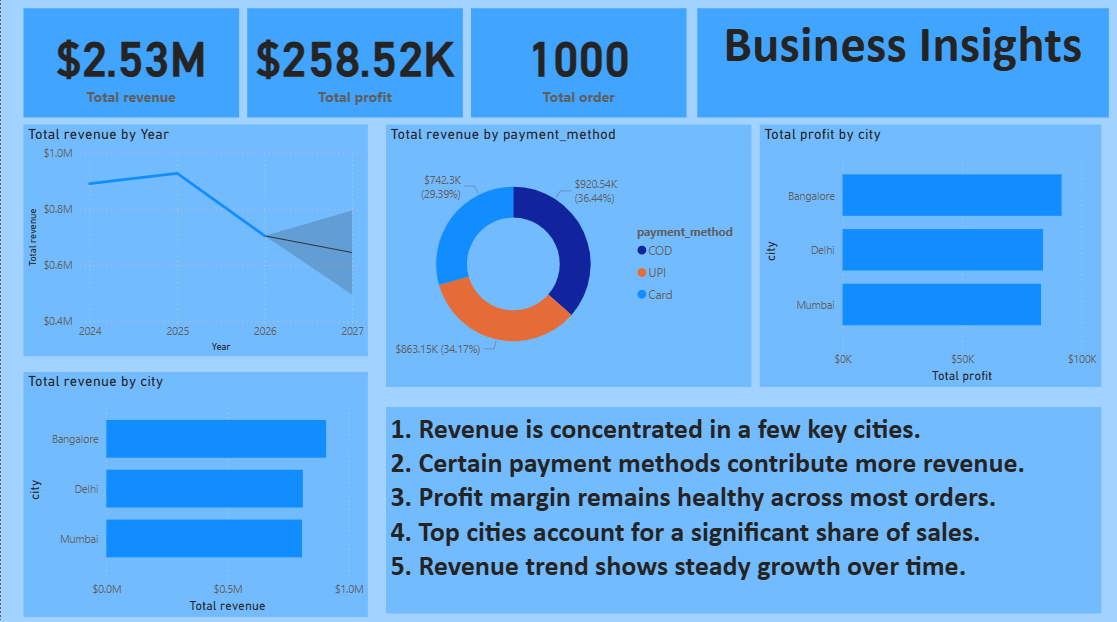

What the dashboard file says about the page in this screenshot:
{"tool":"powerbi","page":{"name":"Page 5","canvas":[1280,720],"ordinal":4},"visuals":[{"type":"lineChart","fields":{"Category":["Factsales.date.Variation.Date Hierarchy.Year","Factsales.date.Variation.Date Hierarchy.Quarter","Factsales.date.Variation.Date Hierarchy.Month","Factsales.date.Variation.Date Hierarchy.Day"],"Y":["Factsales.Total revenue"]},"box":[26.2,145,393.8,265],"z":0},{"type":"donutChart","fields":{"Category":["Factsales.payment_method"],"Y":["Factsales.Total revenue"]},"box":[440,145,417.5,300],"z":1},{"type":"barChart","fields":{"Category":["Factsales.city"],"Y":["Factsales.Total revenue"]},"box":[26.2,428.8,393.8,280],"z":2},{"type":"barChart","fields":{"Category":["Factsales.city"],"Y":["Factsales.Total profit"]},"box":[867.5,145,390,300],"z":3},{"type":"textbox","box":[440,468.8,817.5,236.2],"z":4},{"type":"card","fields":{"Values":["Factsales.Total revenue"]},"box":[26.2,12.5,246.2,125],"z":5},{"type":"card","fields":{"Values":["Factsales.Total profit"]},"box":[281.2,12.5,246.2,125],"z":6},{"type":"card","fields":{"Values":["Factsales.Total order"]},"box":[537.5,12.5,246.2,125],"z":7},{"type":"textbox","box":[796.2,12.5,470,125],"z":8}]}

Visuals, with their boxes in screenshot pixels (x1, y1, x2, y2), scaled from the page's 1280x720 canvas onto the 1117x622 screenshot:
lineChart - Factsales.date.Variation.Date Hierarchy.Year x Factsales.date.Variation.Date Hierarchy.Quarter: region(23, 125, 367, 354)
donutChart - Factsales.payment_method x Factsales.Total revenue: region(384, 125, 748, 384)
barChart - Factsales.city x Factsales.Total revenue: region(23, 370, 367, 612)
barChart - Factsales.city x Factsales.Total profit: region(757, 125, 1097, 384)
textbox: region(384, 405, 1097, 609)
card - Factsales.Total revenue: region(23, 11, 238, 119)
card - Factsales.Total profit: region(245, 11, 460, 119)
card - Factsales.Total order: region(469, 11, 684, 119)
textbox: region(695, 11, 1105, 119)
